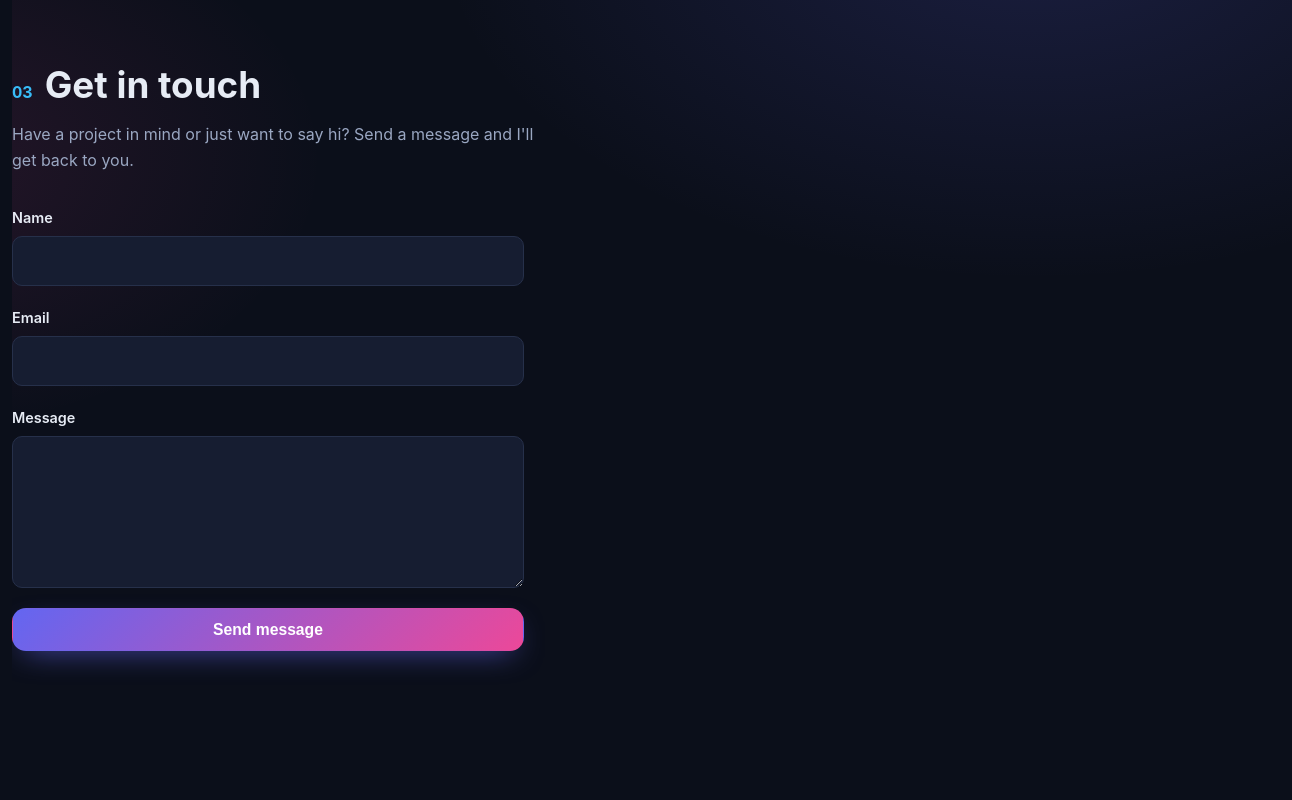
Test case: <Contact /> › shows validation errors on empty submit
Click the button "Send message": (268,630) [12,608,524,651]
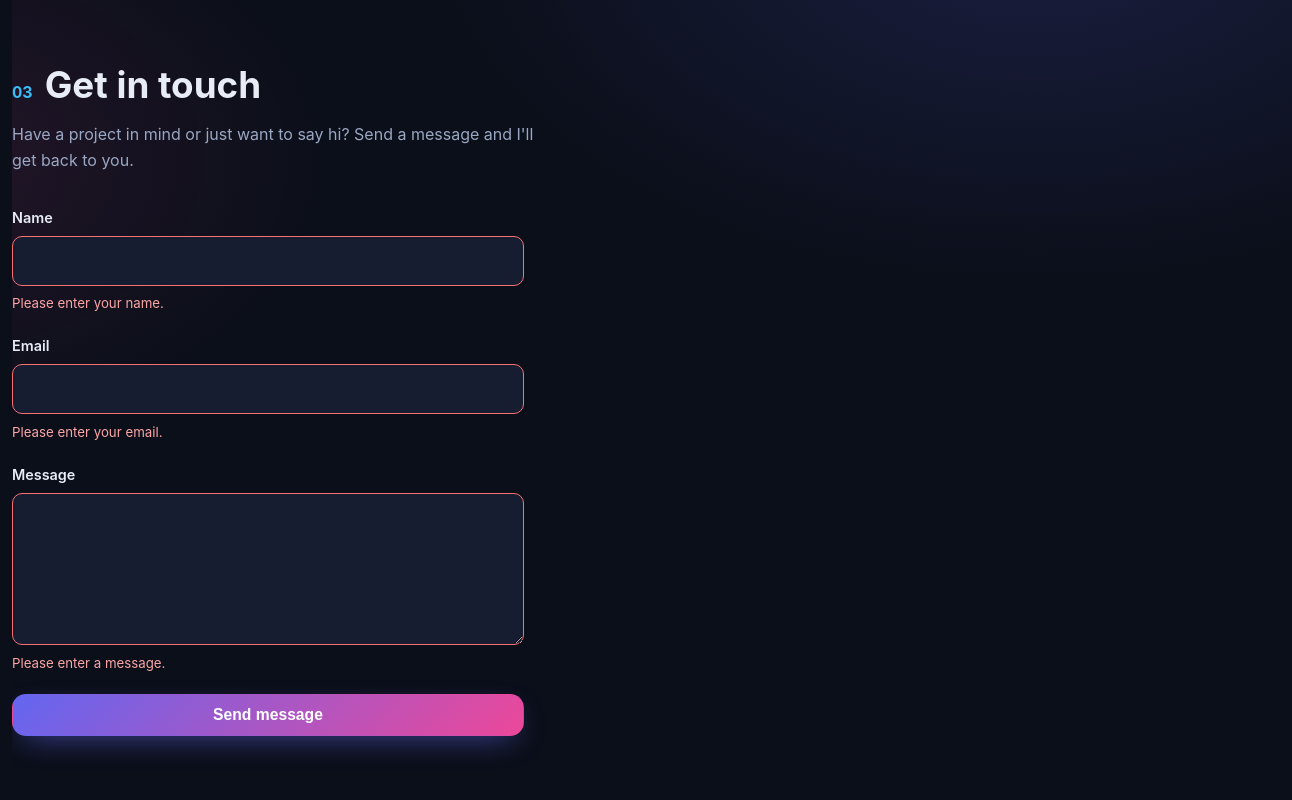
Result: the text "Please enter your name." is shown at [12,295,164,311]
Result: the text "Please enter your email." is shown at [12,424,162,440]
Result: the text "Please enter a message." is shown at [12,654,165,670]
